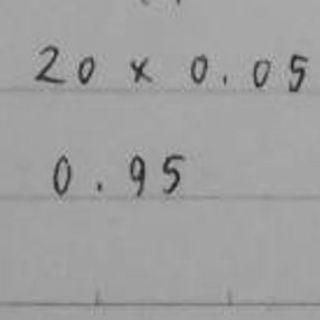.: (91, 179, 107, 195)
0: (51, 154, 73, 197), (189, 52, 209, 86), (252, 58, 273, 90), (76, 55, 96, 86)
2: (31, 43, 68, 85)
5: (160, 153, 186, 195), (287, 52, 311, 94)
9: (128, 153, 147, 199)
